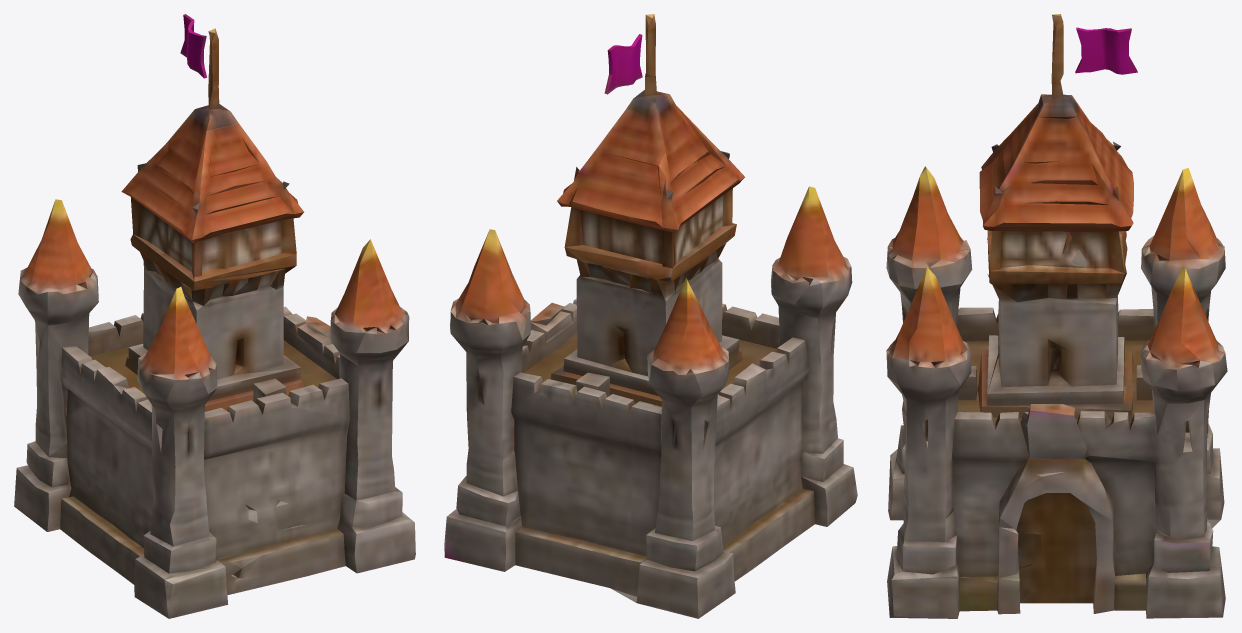
The model's file is castle2.lod2.glb.
3 renders of one model, left to right at view 1: azimuth 30°, elevation 25°; view 2: azimuth 150°, elevation 25°; view 3: azimuth 270°, elevation 25°, orthographic. The views are drawn at different scales.
Visible parts, largest first — view 1: castle2.lod2_uv; view 2: castle2.lod2_uv; view 3: castle2.lod2_uv.
Boxes of the visible parts, x1,y1,x2,y2 form: castle2.lod2_uv: (14, 14, 415, 618); castle2.lod2_uv: (444, 14, 857, 618); castle2.lod2_uv: (886, 14, 1227, 618).
Size of the model in its own units: 1.04 by 1.9 by 1.09.
1 material, 1 textured.
